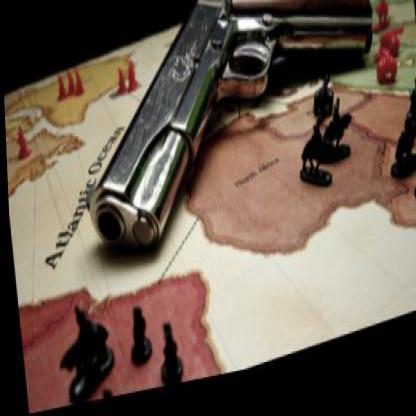pistol: (67, 0, 386, 272)
